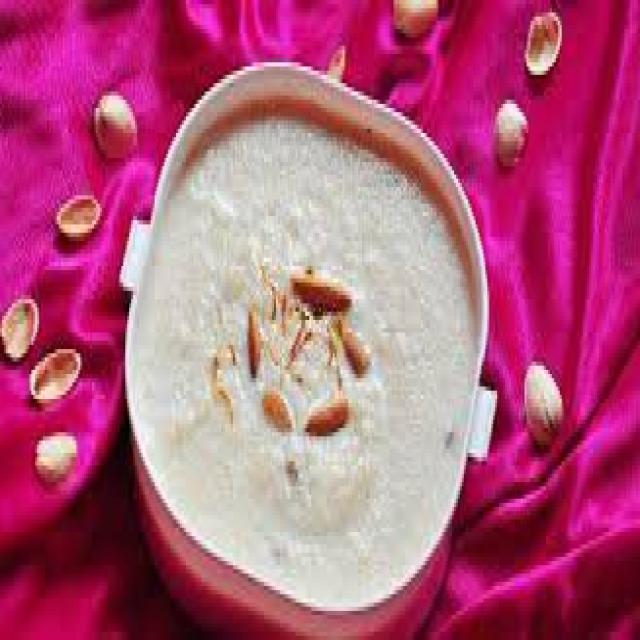Kheer: (131, 104, 479, 596)
